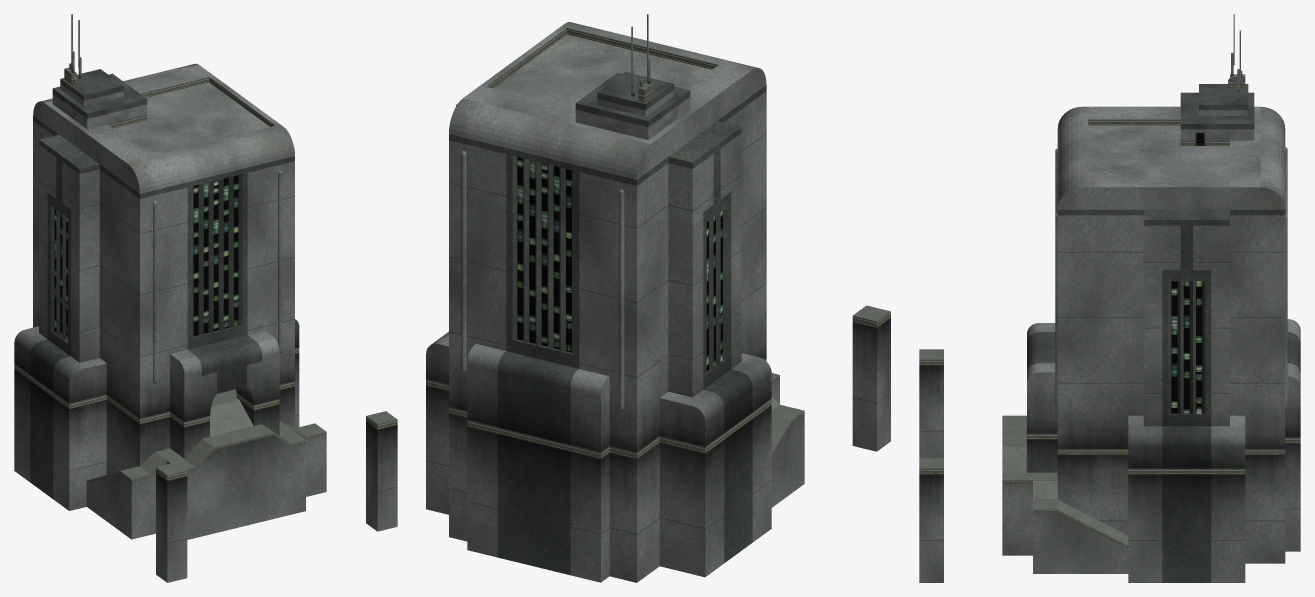
Rendered from ply_corl_capitol_s01_r0_mesh_l0.fbx.
3 views of the same model, side by side, from view 1: azimuth 30°, elevation 25°; view 2: azimuth 150°, elevation 25°; view 3: azimuth 270°, elevation 25° (orthographic). The views are drawn at different scales.
Parts seen in each view (by area): view 1: mesh_node; view 2: mesh_node; view 3: mesh_node.
Boxes of the visible parts, x1,y1,x2,y2 form: mesh_node: (14,14,397,582); mesh_node: (426,14,890,582); mesh_node: (919,14,1300,582).
Size of the model in its own units: 46 by 85.5 by 62.01.
